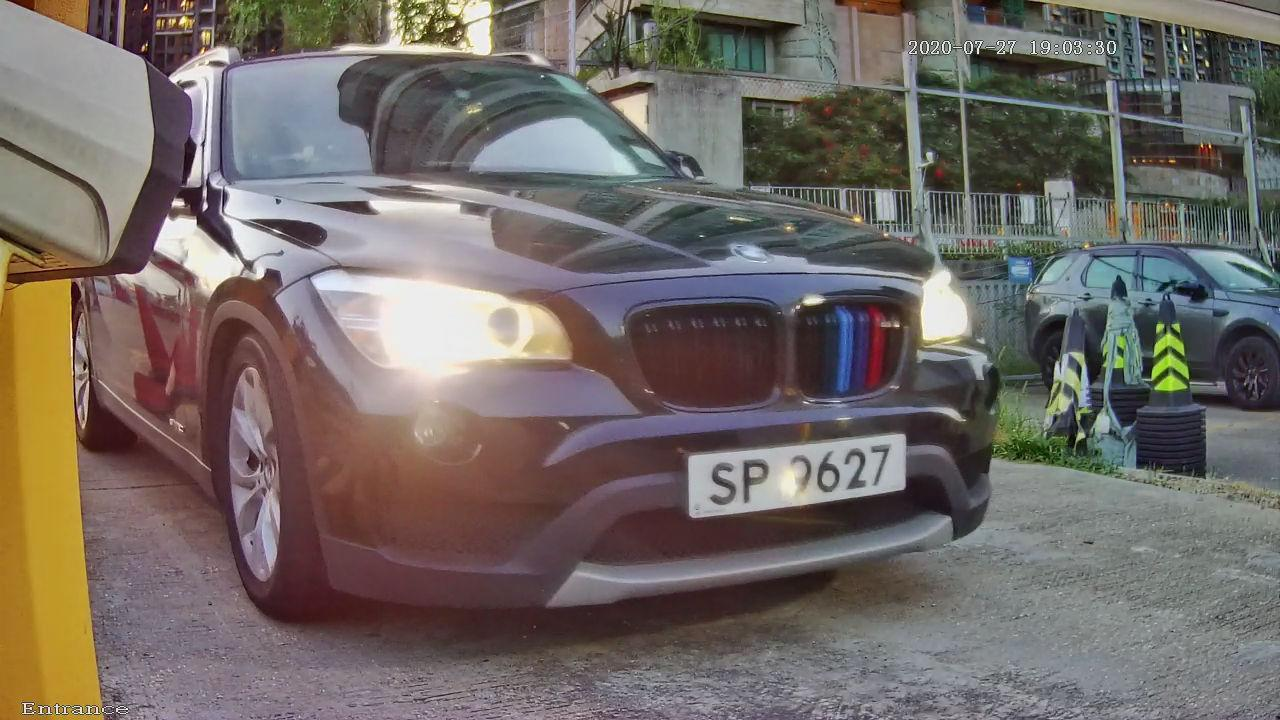privatecar: (143, 20, 1058, 643)
